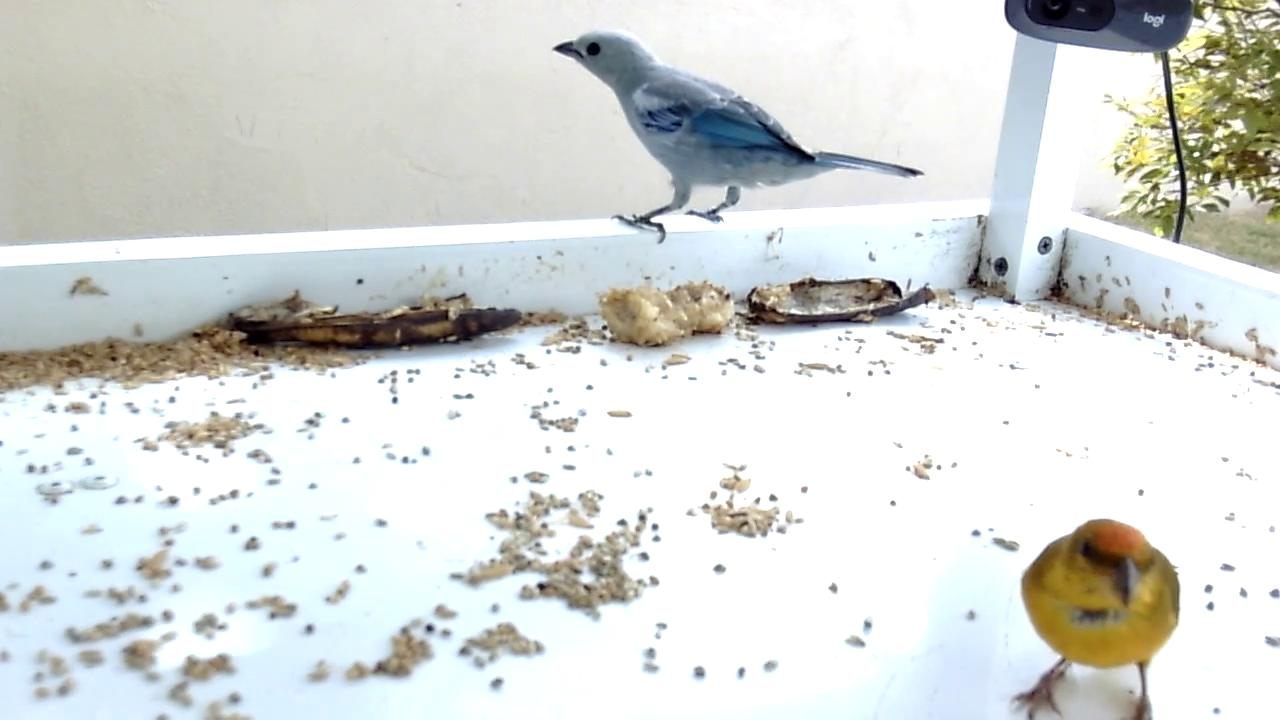canario_do_amazonas: (1014, 518, 1180, 720)
sanhaco_da_amazonia: (553, 29, 927, 245)
